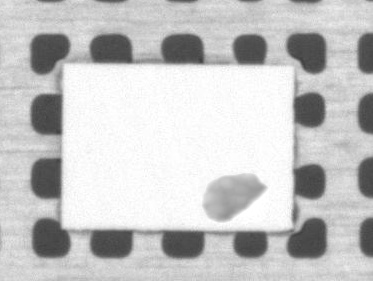DIE_INK: (202, 172, 267, 225)
